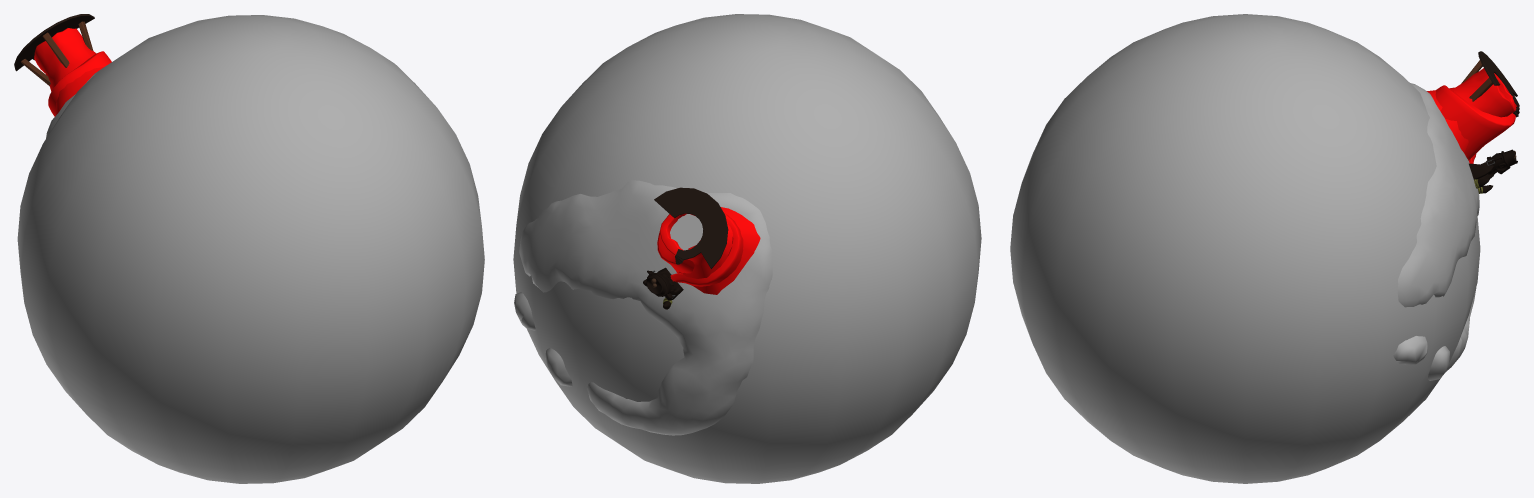
Rendered from Tiki island v2.fbx.
3 renders of one model, left to right at view 1: azimuth 30°, elevation 25°; view 2: azimuth 150°, elevation 25°; view 3: azimuth 270°, elevation 25°, orthographic.
Parts seen in each view (by area): view 1: pSphere1, Volcano__; view 2: pSphere1, Island, Volcano__, Tiki_gate, Lava_plane; view 3: pSphere1, Island, Volcano__, Tiki_gate.
Boxes of the visible parts, <box> form: pSphere1: <box>17,15,484,483</box>; Volcano__: <box>14,14,111,116</box>; pSphere1: <box>513,14,981,483</box>; Island: <box>514,180,772,435</box>; Volcano__: <box>654,187,760,294</box>; Tiki_gate: <box>643,267,683,309</box>; Lava_plane: <box>670,214,702,250</box>; pSphere1: <box>1010,14,1480,483</box>; Island: <box>1393,83,1479,380</box>; Volcano__: <box>1427,51,1519,163</box>; Tiki_gate: <box>1469,149,1517,193</box>.
Bounding box in the file's own units: 18.57 × 18.57 × 20.12.
